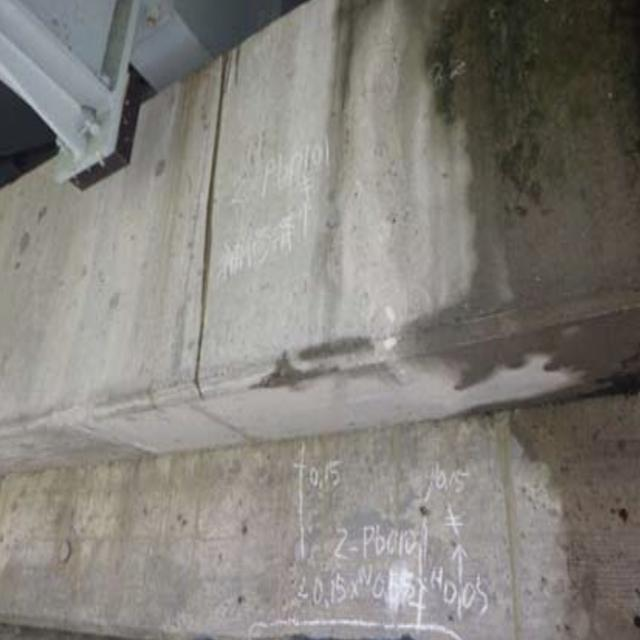leakage: (428, 8, 634, 640)
